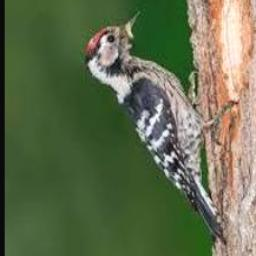Woodpecker: (84, 11, 237, 242)
